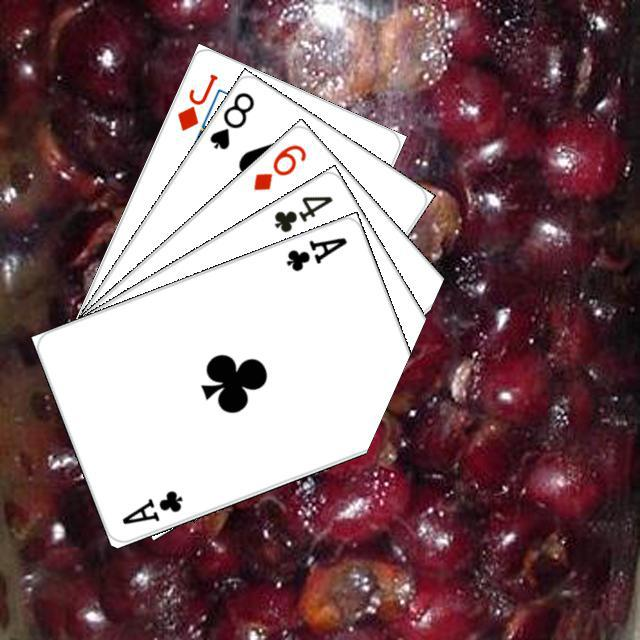4c: (268, 190, 335, 235)
6d: (248, 139, 308, 193)
8s: (204, 87, 257, 152)
Ac: (116, 485, 185, 527), (281, 232, 349, 274)
Jd: (172, 69, 220, 133)
